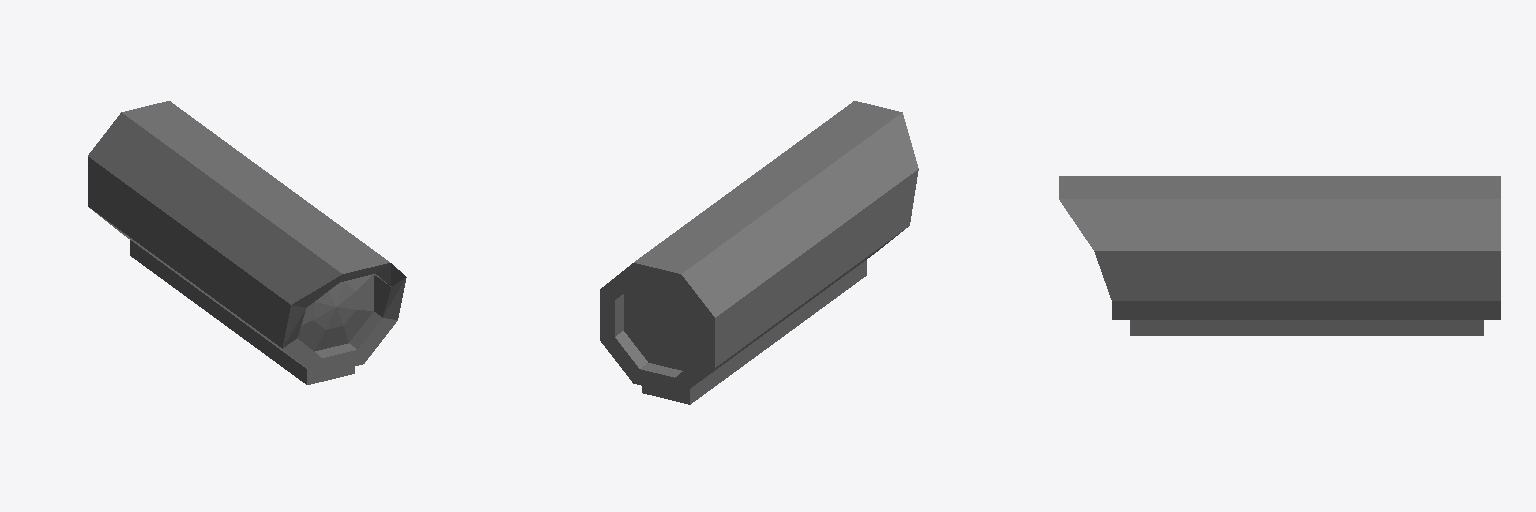
File: FSR-SIII-Scope-3x.obj
The picture shows the model from 3 angles: view 1: azimuth 30°, elevation 25°; view 2: azimuth 150°, elevation 25°; view 3: azimuth 270°, elevation 25°; orthographic projection.
Parts seen in each view (by area): view 1: FSR-SIII-Scope-3x; view 2: FSR-SIII-Scope-3x; view 3: FSR-SIII-Scope-3x.
Part boxes in pixels (bbox=[...]): FSR-SIII-Scope-3x: bbox=[88, 101, 406, 384]; FSR-SIII-Scope-3x: bbox=[600, 101, 918, 404]; FSR-SIII-Scope-3x: bbox=[1059, 176, 1500, 335].
Size of the model in its own units: 0.1886 by 0.2136 by 0.625.